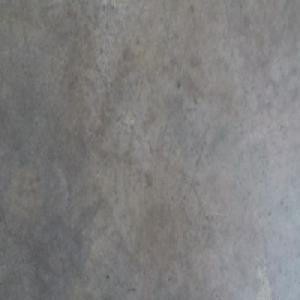Pliers: (188, 292, 200, 299)
